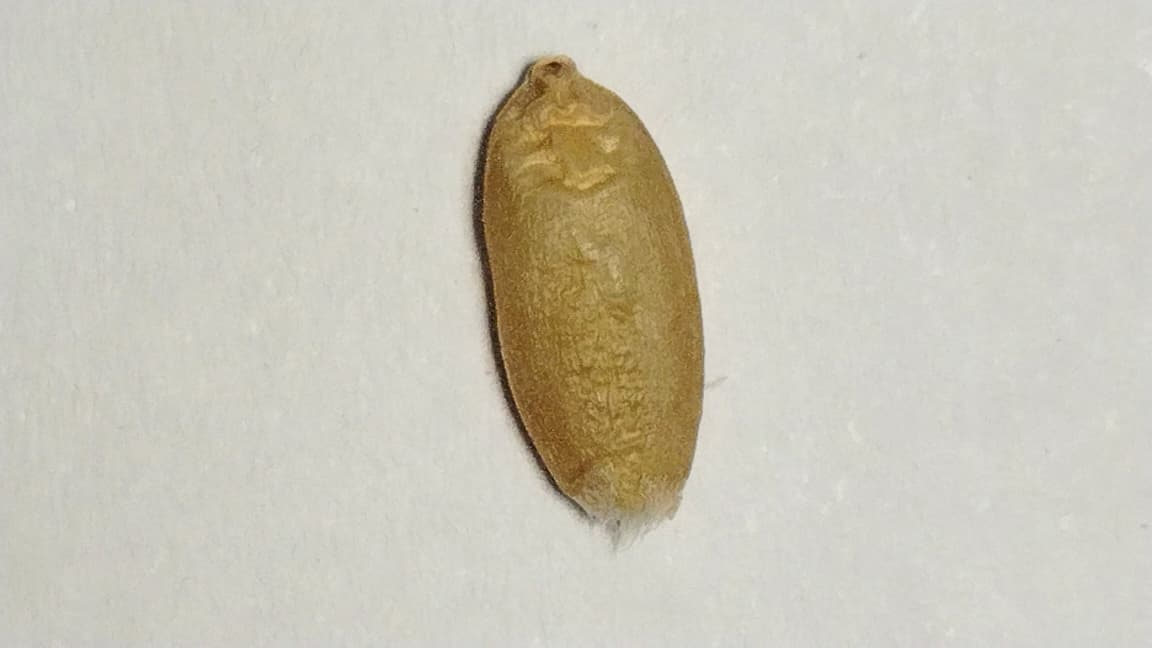healthy: (484, 57, 702, 517)
